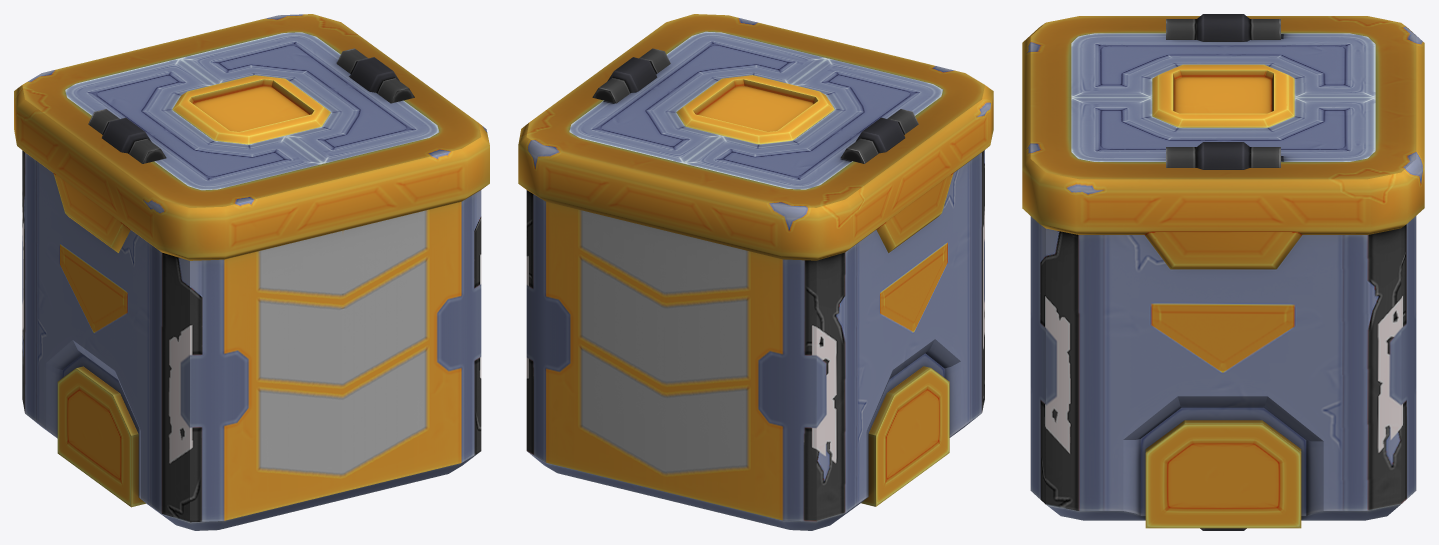
Rendered from obj_challenge_balltubestraight.fbx.
3 renders of one model, left to right at view 1: azimuth 30°, elevation 25°; view 2: azimuth 150°, elevation 25°; view 3: azimuth 270°, elevation 25°, orthographic. The views are drawn at different scales.
Parts seen in each view (by area): view 1: polySurface172; view 2: polySurface172; view 3: polySurface172.
Part boxes in pixels (x1=…): polySurface172: x1=14, y1=14, x2=489, y2=530; polySurface172: x1=518, y1=14, x2=993, y2=530; polySurface172: x1=1022, y1=14, x2=1424, y2=530.
Size of the model in its own units: 8.34 by 8.71 by 8.34.
